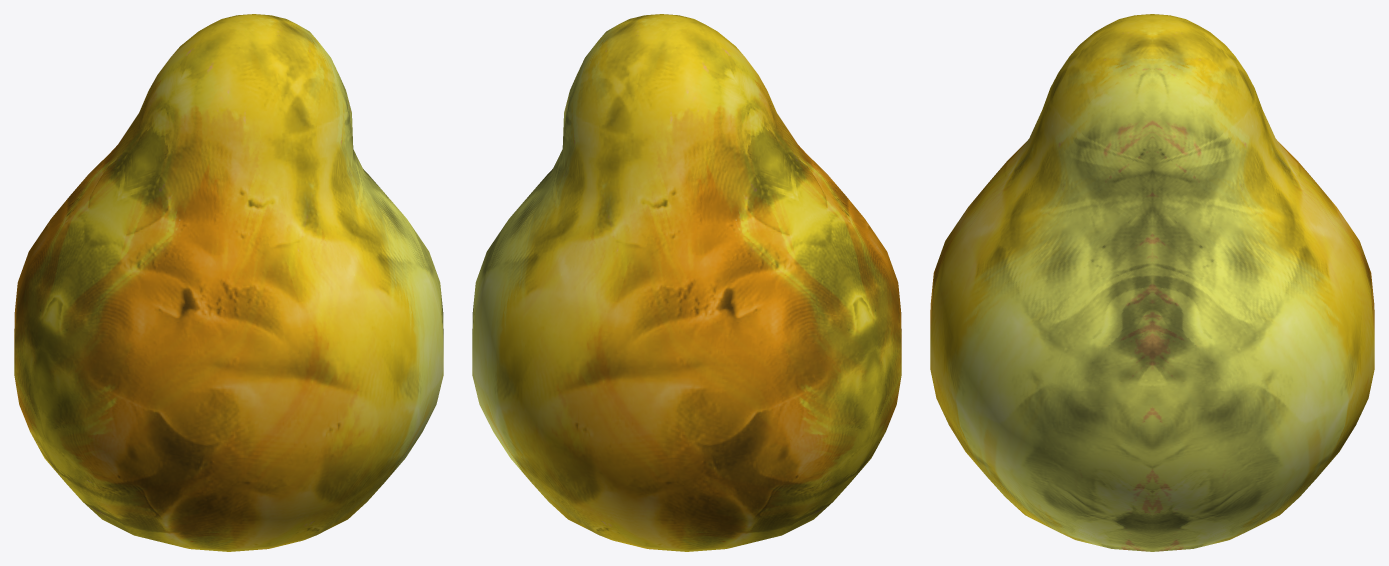
File: Poire.FBX
3 views of the same model, side by side, from view 1: azimuth 30°, elevation 25°; view 2: azimuth 150°, elevation 25°; view 3: azimuth 270°, elevation 25° (orthographic). The views are drawn at different scales.
Parts seen in each view (by area): view 1: Poire_Positif; view 2: Poire_Positif; view 3: Poire_Positif.
Part boxes in pixels (x1=…): Poire_Positif: x1=14, y1=14, x2=443, y2=551; Poire_Positif: x1=472, y1=14, x2=901, y2=551; Poire_Positif: x1=930, y1=14, x2=1374, y2=551.
Bounding box in the file's own units: 1.54 × 1.91 × 1.52.
